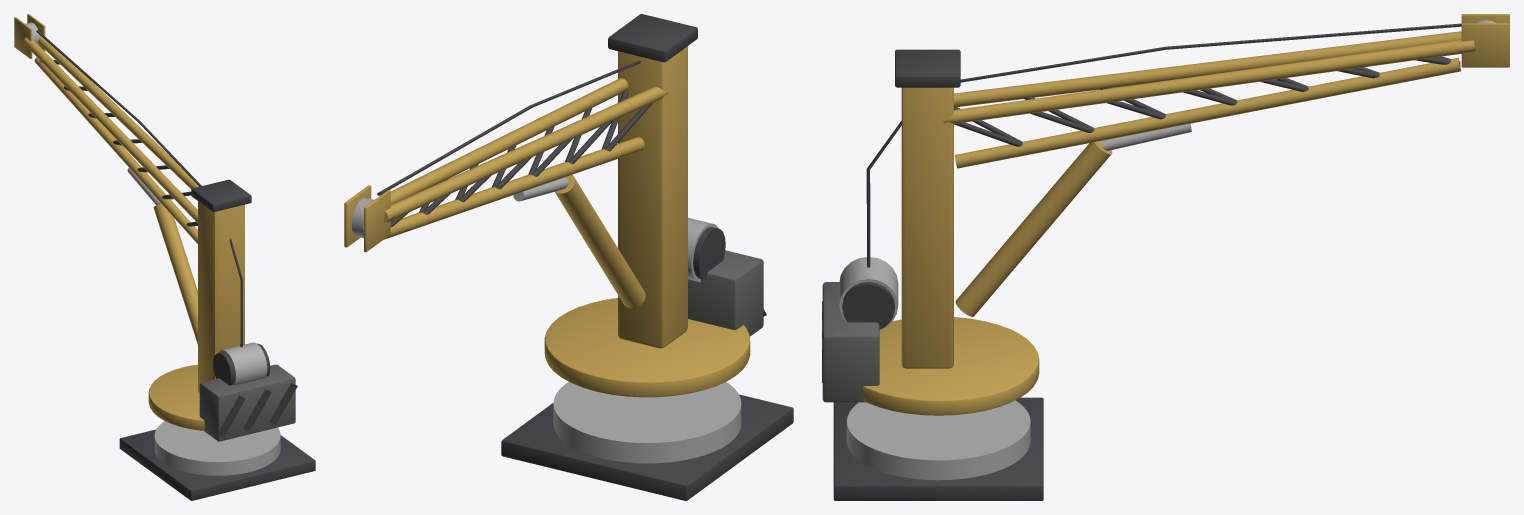
Rendered from crane.glb.
The picture shows the model from 3 angles, left to right: view 1: azimuth 30°, elevation 25°; view 2: azimuth 150°, elevation 25°; view 3: azimuth 270°, elevation 25°; orthographic projection. The views are drawn at different scales.
Visible parts, largest first — view 1: Top, Part; view 2: Top, Part; view 3: Top, Part.
Boxes of the visible parts, left/top/right/bottom form: Top: left=14, top=14, right=297, bottom=441; Part: left=119, top=421, right=315, bottom=500; Top: left=344, top=14, right=766, bottom=397; Part: left=501, top=382, right=793, bottom=500; Top: left=822, top=14, right=1509, bottom=415; Part: left=833, top=397, right=1043, bottom=500.
Bounding box in the file's own units: 0.96 × 2.22 × 3.14.
